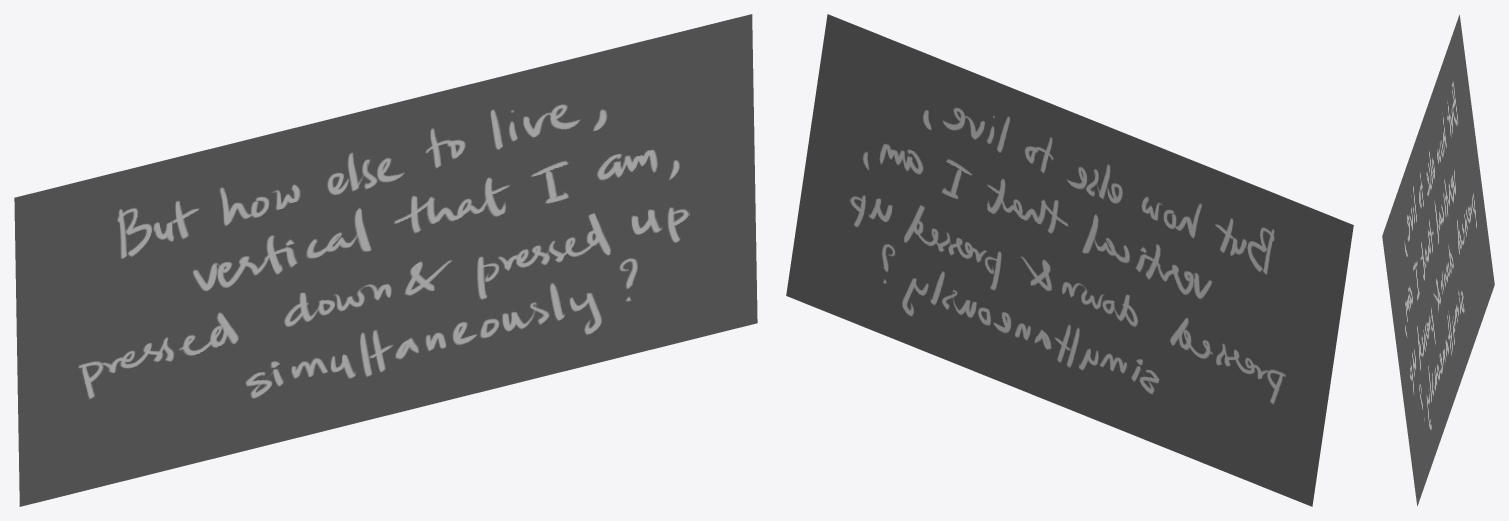
3 views of the same model, side by side, from view 1: azimuth 30°, elevation 25°; view 2: azimuth 150°, elevation 25°; view 3: azimuth 270°, elevation 25° (orthographic). The views are drawn at different scales.
Parts seen in each view (by area): view 1: Plane.006; view 2: Plane.006; view 3: Plane.006.
Part boxes in pixels (x1,y1,x2,y2): Plane.006: (14,14,757,506); Plane.006: (786,14,1353,506); Plane.006: (1382,15,1494,505).
Size of the model in its own units: 2.7 by 1.38 by 0.4694.
Materials: 1 (1 with a texture image).
